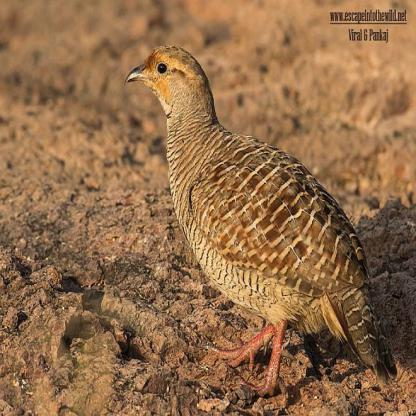Burung: (124, 44, 398, 396)
